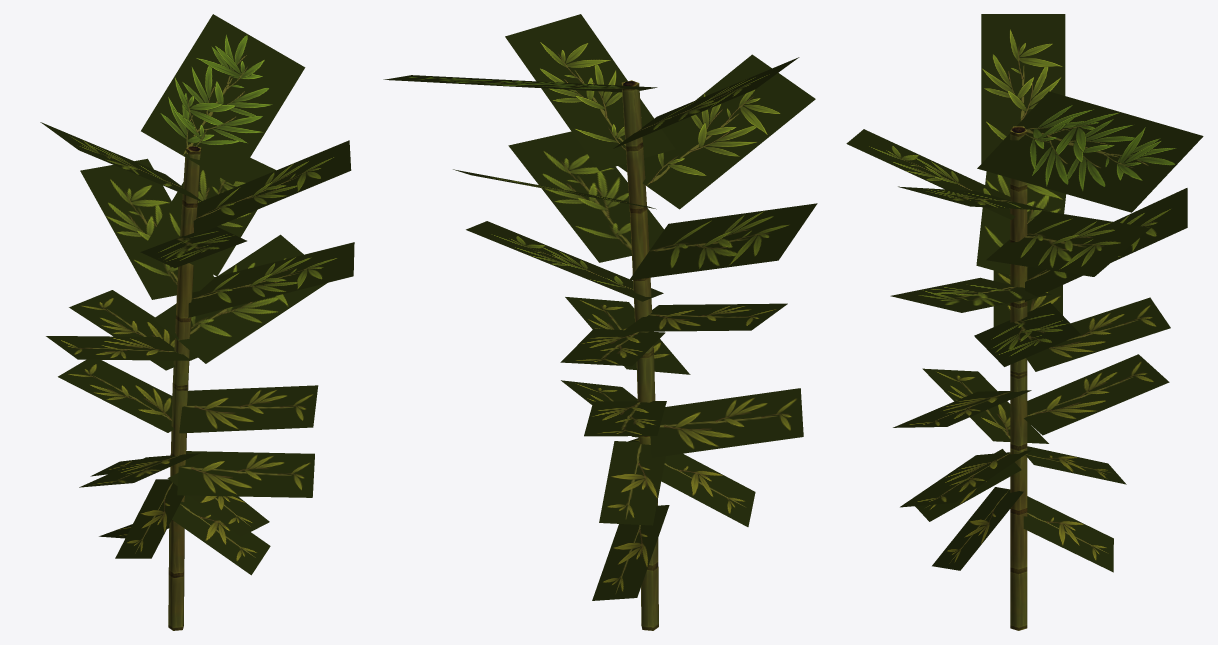
Rendered from bamboo_tree_small.FBX.
The picture shows the model from 3 angles, left to right: view 1: azimuth 30°, elevation 25°; view 2: azimuth 150°, elevation 25°; view 3: azimuth 270°, elevation 25°; orthographic projection. The views are drawn at different scales.
Parts seen in each view (by area): view 1: bamboo_tree_small; view 2: bamboo_tree_small; view 3: bamboo_tree_small.
Boxes of the visible parts, <box> form: bamboo_tree_small: <box>40,14,354,630</box>; bamboo_tree_small: <box>383,14,817,630</box>; bamboo_tree_small: <box>846,14,1203,630</box>.
Size of the model in its own units: 507 by 788 by 460.
